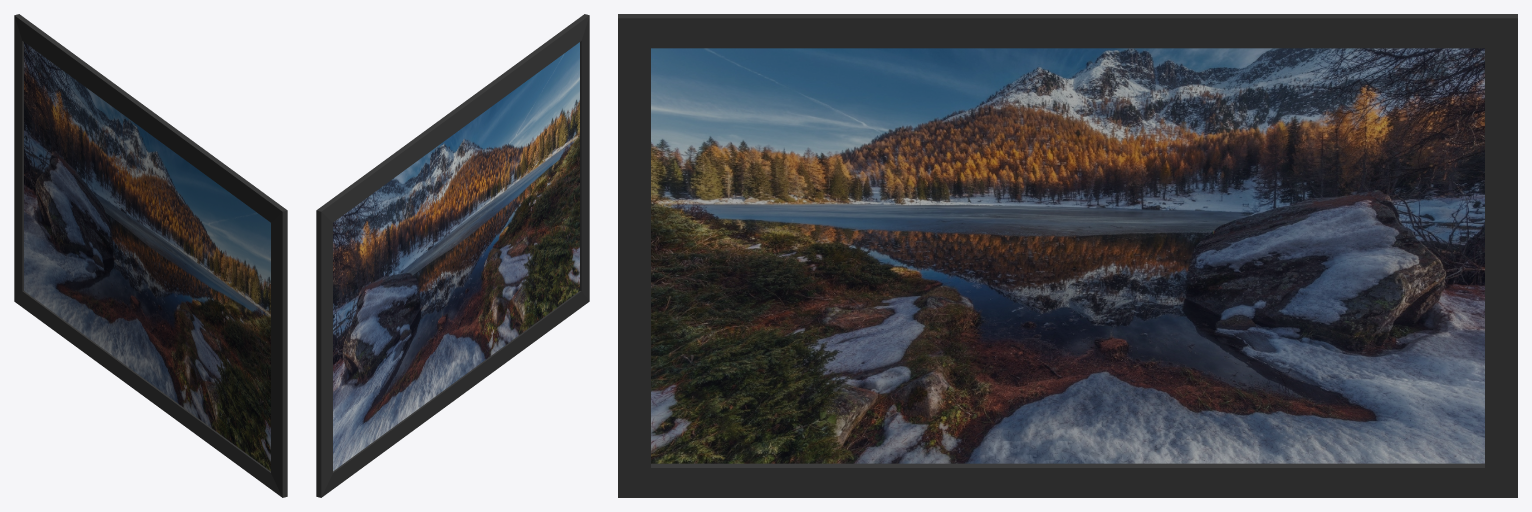
The model's file is Painting_Mountains_Landscape5.fbx.
3 views of the same model, side by side, from view 1: azimuth 30°, elevation 25°; view 2: azimuth 150°, elevation 25°; view 3: azimuth 270°, elevation 25° (orthographic). The views are drawn at different scales.
Visible parts, largest first — view 1: mountains_landscape5, PaintingFrame1; view 2: mountains_landscape5, PaintingFrame1; view 3: mountains_landscape5, PaintingFrame1.
Boxes of the visible parts, bbox=[...] form: mountains_landscape5: bbox=[24, 42, 270, 471]; PaintingFrame1: bbox=[14, 14, 287, 497]; mountains_landscape5: bbox=[333, 42, 579, 471]; PaintingFrame1: bbox=[316, 14, 589, 497]; mountains_landscape5: bbox=[651, 48, 1484, 463]; PaintingFrame1: bbox=[618, 14, 1517, 497].
Bounding box in the file's own units: 4 × 160 × 272.
